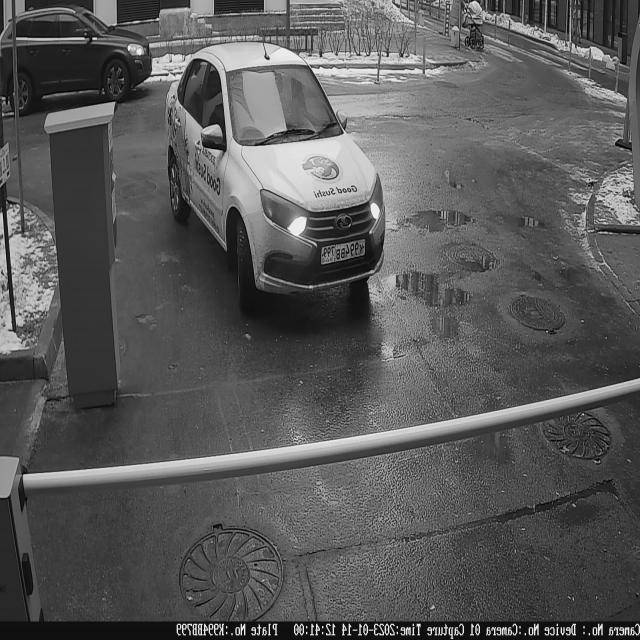car-plate-numbers: (320, 234, 369, 269)
